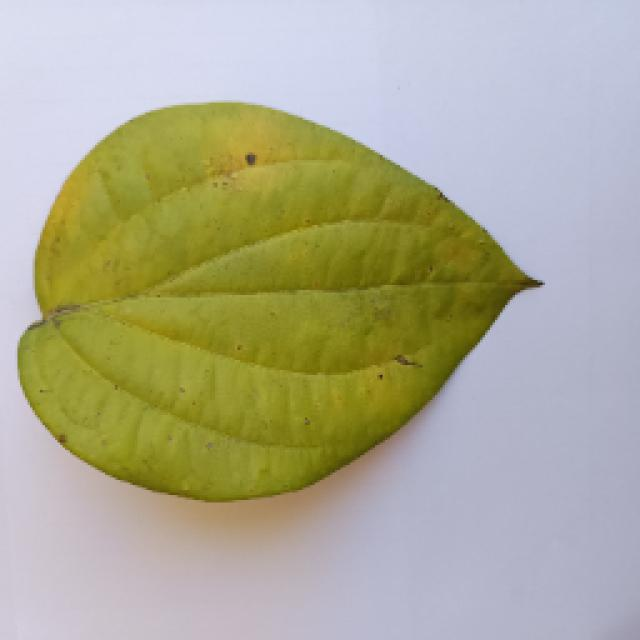slow-decline: (5, 98, 575, 518)
